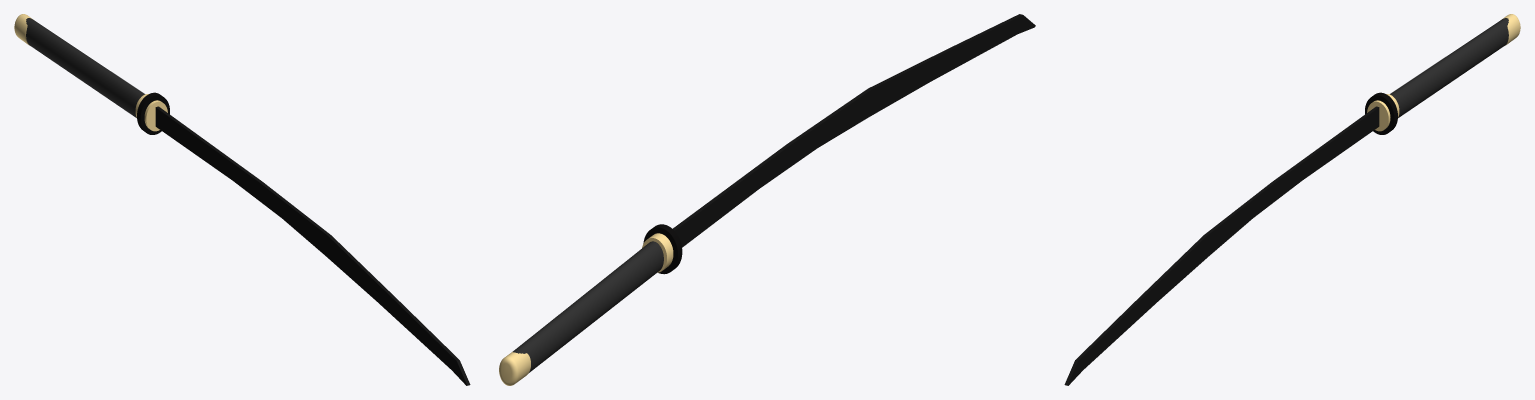
3 views of the same model, side by side, from view 1: azimuth 30°, elevation 25°; view 2: azimuth 150°, elevation 25°; view 3: azimuth 330°, elevation 25° (orthographic). The views are drawn at different scales.
Parts seen in each view (by area): view 1: blade, grip, guard, collar; view 2: blade, grip, pommel, guard, collar; view 3: blade, grip, guard, collar.
Part boxes in pixels (left/top/right/bottom): blade: left=155, top=106, right=470, bottom=385; grip: left=26, top=18, right=145, bottom=117; guard: left=137, top=92, right=169, bottom=134; collar: left=135, top=94, right=167, bottom=131; blade: left=672, top=14, right=1035, bottom=247; grip: left=513, top=241, right=663, bottom=372; pommel: left=499, top=351, right=530, bottom=385; guard: left=643, top=224, right=682, bottom=274; collar: left=642, top=233, right=673, bottom=272; blade: left=1064, top=106, right=1379, bottom=385; grip: left=1390, top=18, right=1508, bottom=117; guard: left=1365, top=92, right=1397, bottom=134; collar: left=1367, top=94, right=1399, bottom=131.
Bounding box in the file's own units: 0.0381 × 0.0751 × 1.
